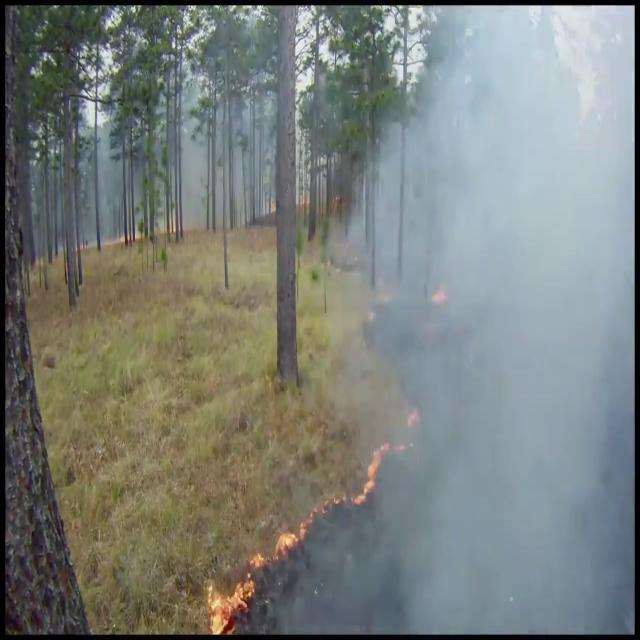Fire: (203, 536, 275, 634), (354, 437, 388, 510)
Smoke: (314, 8, 634, 634)
